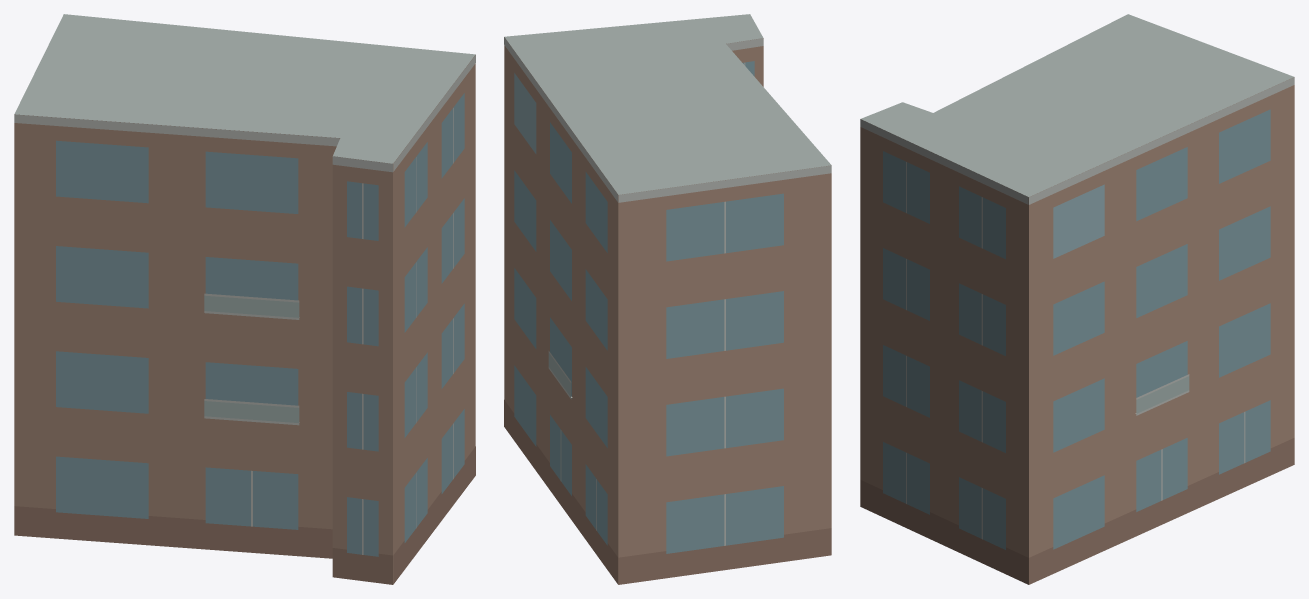
The model's file is survey-upis-32728705.glb.
The picture shows the model from 3 angles, left to right: view 1: azimuth 30°, elevation 25°; view 2: azimuth 150°, elevation 25°; view 3: azimuth 270°, elevation 25°; orthographic projection. The views are drawn at different scales.
Visible parts, largest first — view 1: survey-upis-32728705.tmp; view 2: survey-upis-32728705.tmp; view 3: survey-upis-32728705.tmp.
Part boxes in pixels (box(x1,y1,x2,y2)): survey-upis-32728705.tmp: box(14, 14, 475, 584); survey-upis-32728705.tmp: box(504, 14, 831, 584); survey-upis-32728705.tmp: box(860, 14, 1294, 584).
Bounding box in the file's own units: 12.16 × 12 × 12.19.
